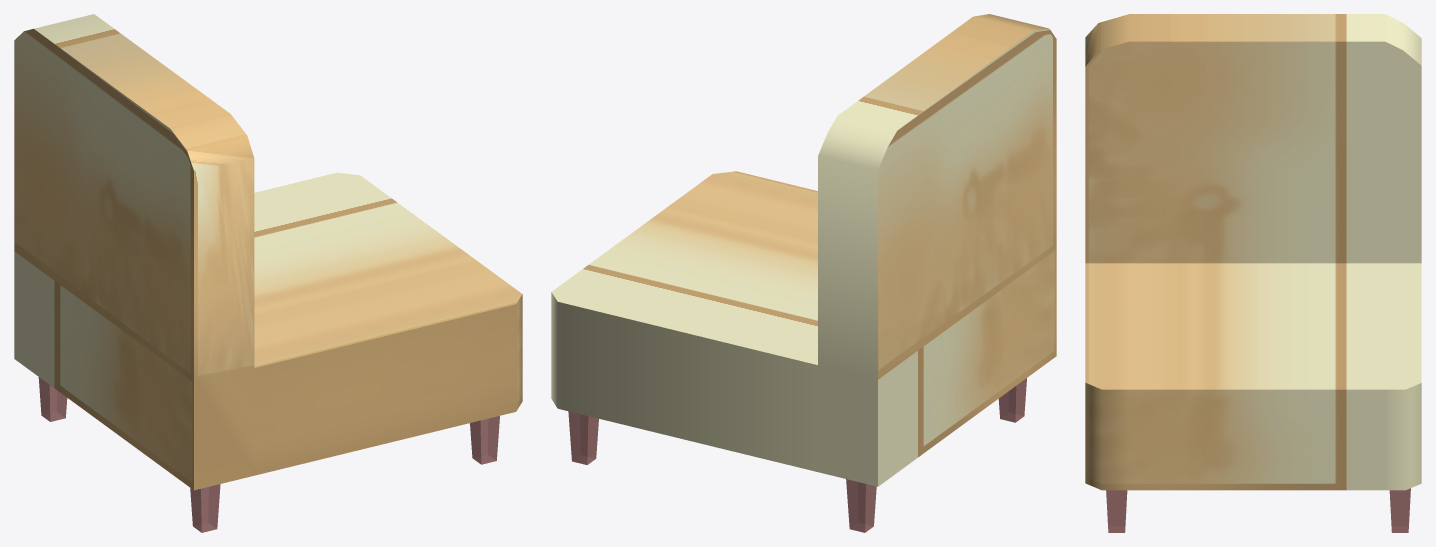
Rendered from sofa_140119.dae.
The picture shows the model from 3 angles, left to right: view 1: azimuth 30°, elevation 25°; view 2: azimuth 150°, elevation 25°; view 3: azimuth 270°, elevation 25°; orthographic projection. The views are drawn at different scales.
Parts seen in each view (by area): view 1: sofa; view 2: sofa; view 3: sofa.
Boxes of the visible parts, x1,y1,x2,y2 form: sofa: (14, 14, 522, 532); sofa: (551, 14, 1056, 532); sofa: (1085, 14, 1421, 532).
Bounding box in the file's own units: 596 × 677 × 550.
